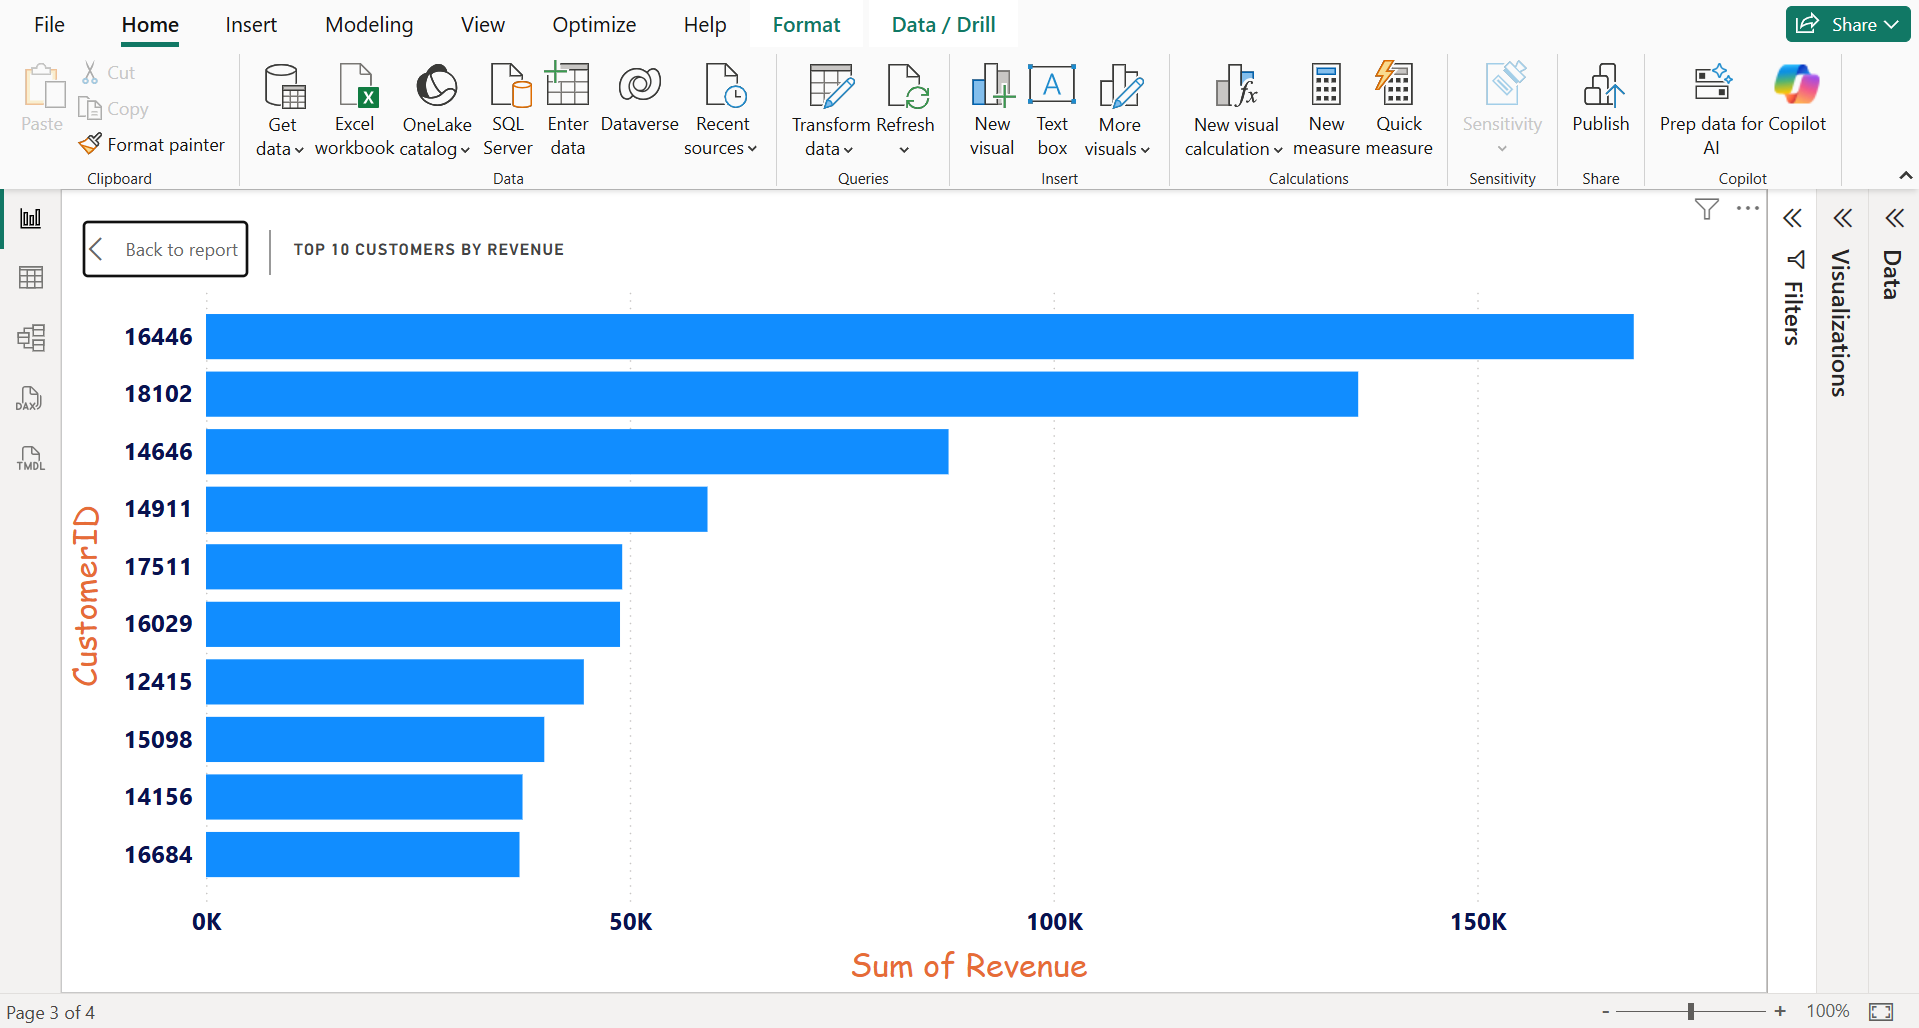

Layout of this report page (visuals, bound fields, positions):
{"tool":"powerbi","page":{"name":"Q3","canvas":[1280,720],"ordinal":2},"visuals":[{"type":"clusteredBarChart","title":"Top 10 Customers by Revenue","fields":{"Category":["Online Retail Data Set.CustomerID"],"Y":["Sum(Online Retail Data Set.Revenue)"]},"box":[26,28,1188,662],"z":0}]}

Visuals, with their boxes on the page's 1280x720 design canvas (x1, y1, x2, y2). These are canvas units, not pixel positions in the 1919x1028 screenshot, which may show the page scaled, cropped or inside an application window:
"Top 10 Customers by Revenue" clusteredBarChart: bbox=(26, 28, 1214, 690)
